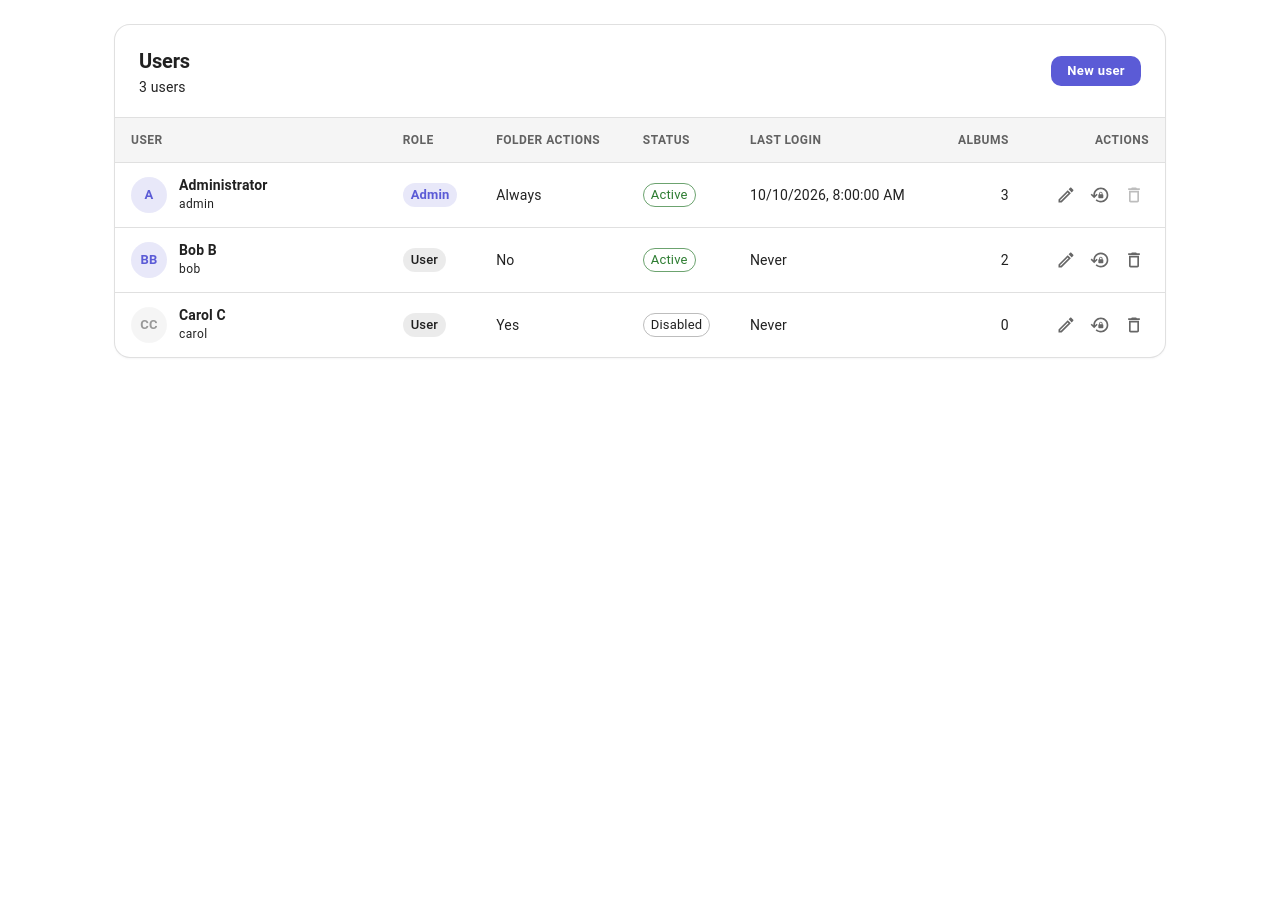
Test case: UsersPage › creates a user and shows them in the table
Click the button "New user" at (1096, 71), box [1051, 56, 1141, 86]
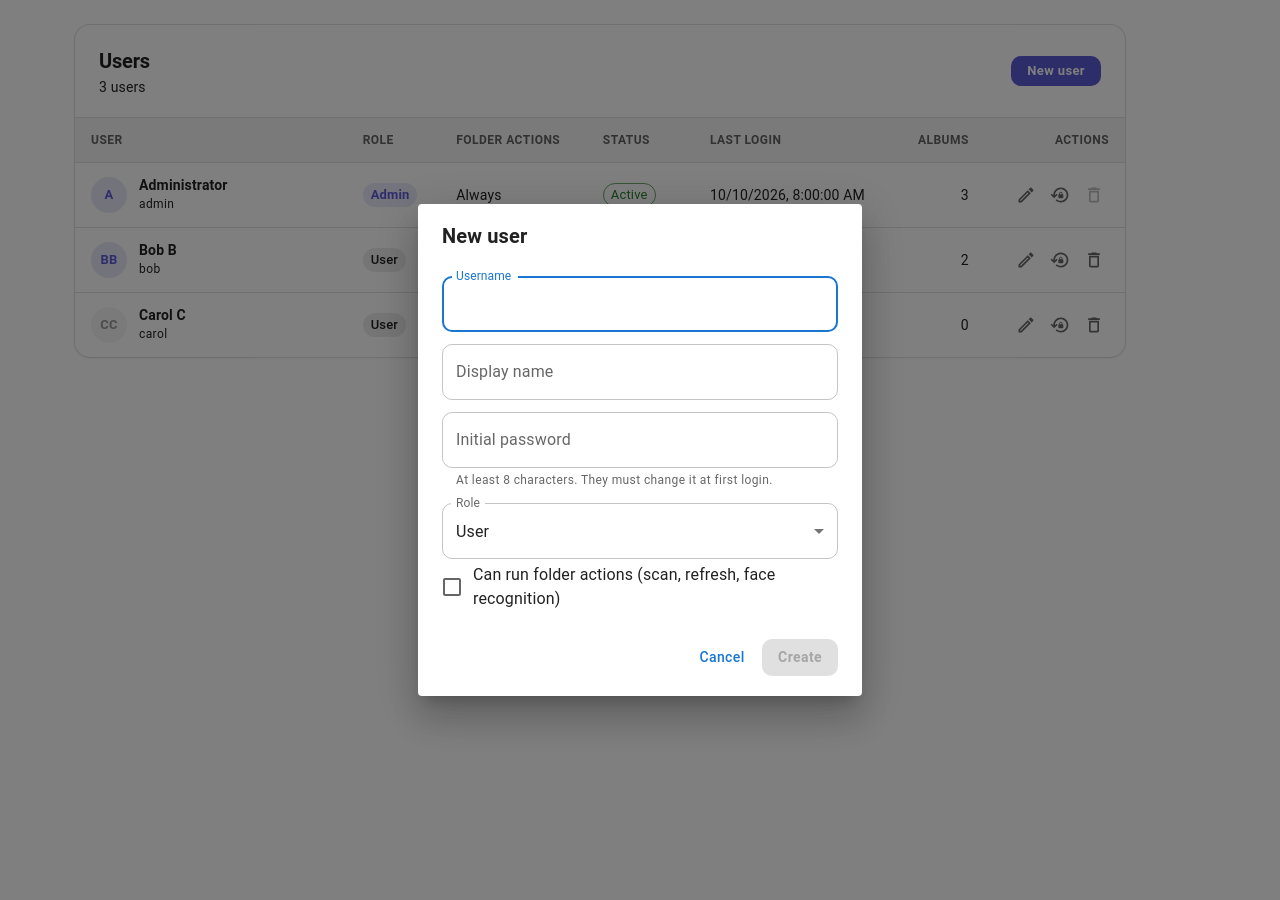
Type "dave" into the field labelled "Username" at (640, 304), box [442, 276, 838, 332]
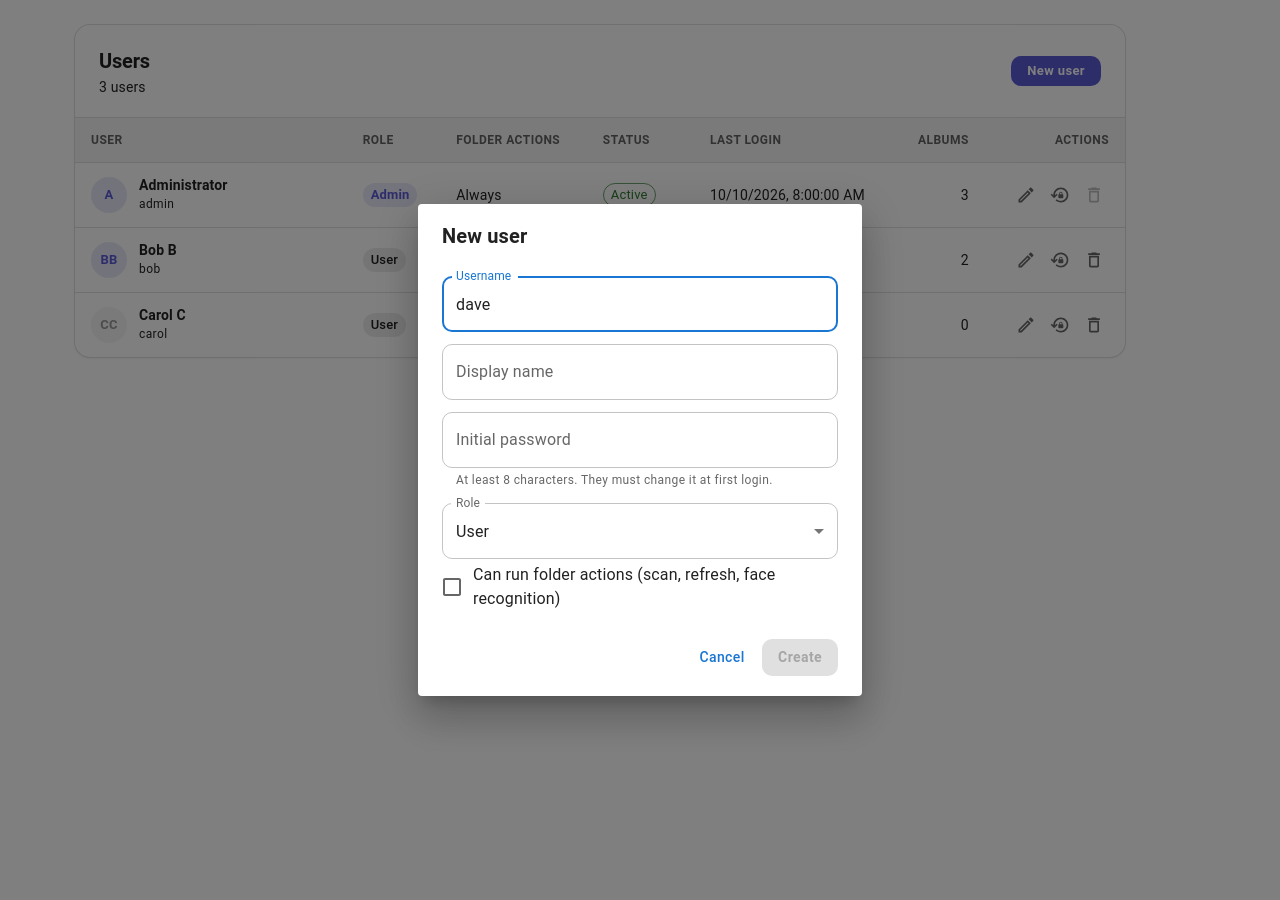
Type "Dave D" into the field labelled "Display name" at (640, 372), box [442, 344, 838, 400]
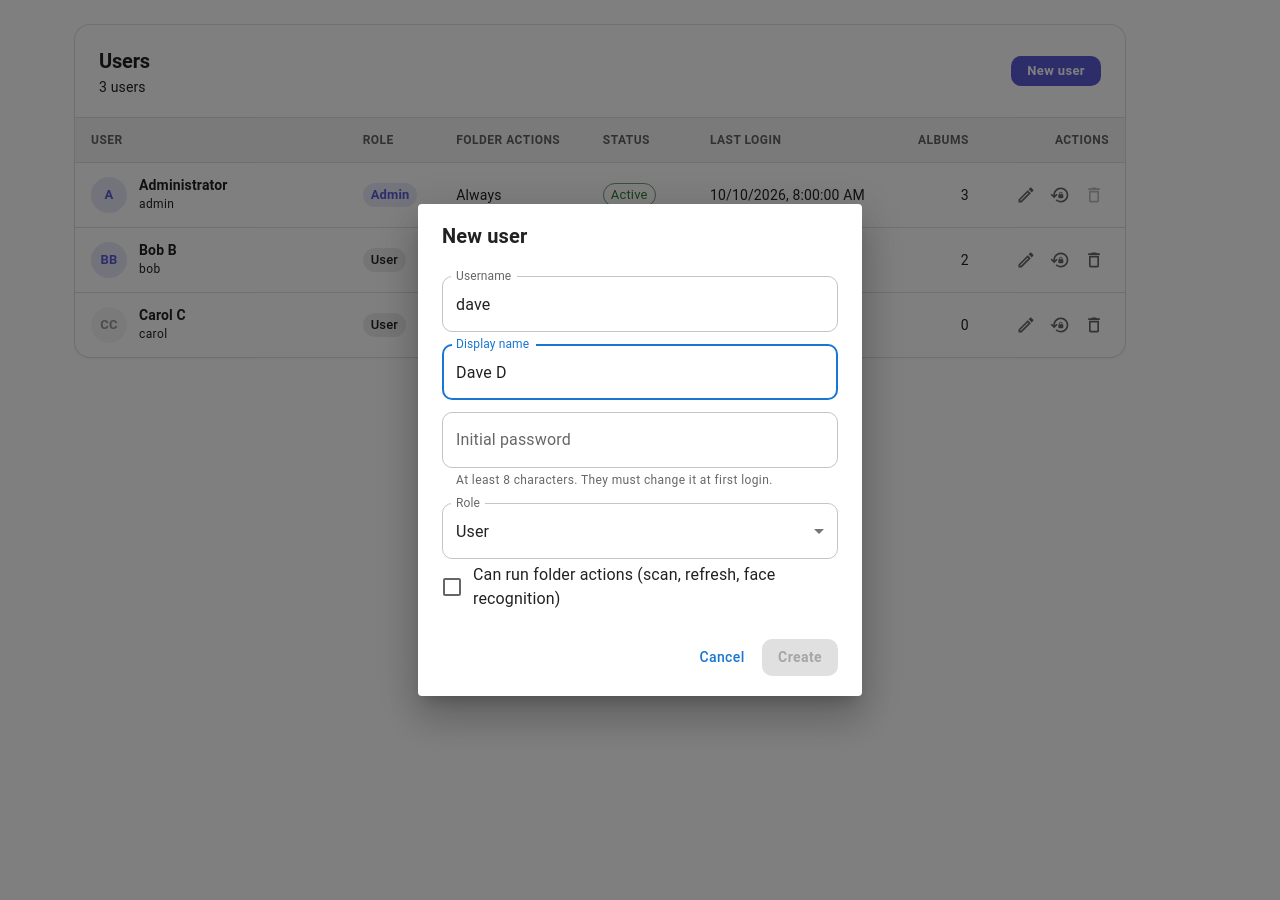
Type "long-enough-pw" into the password field labelled "Initial password" at (640, 440), box [442, 412, 838, 468]
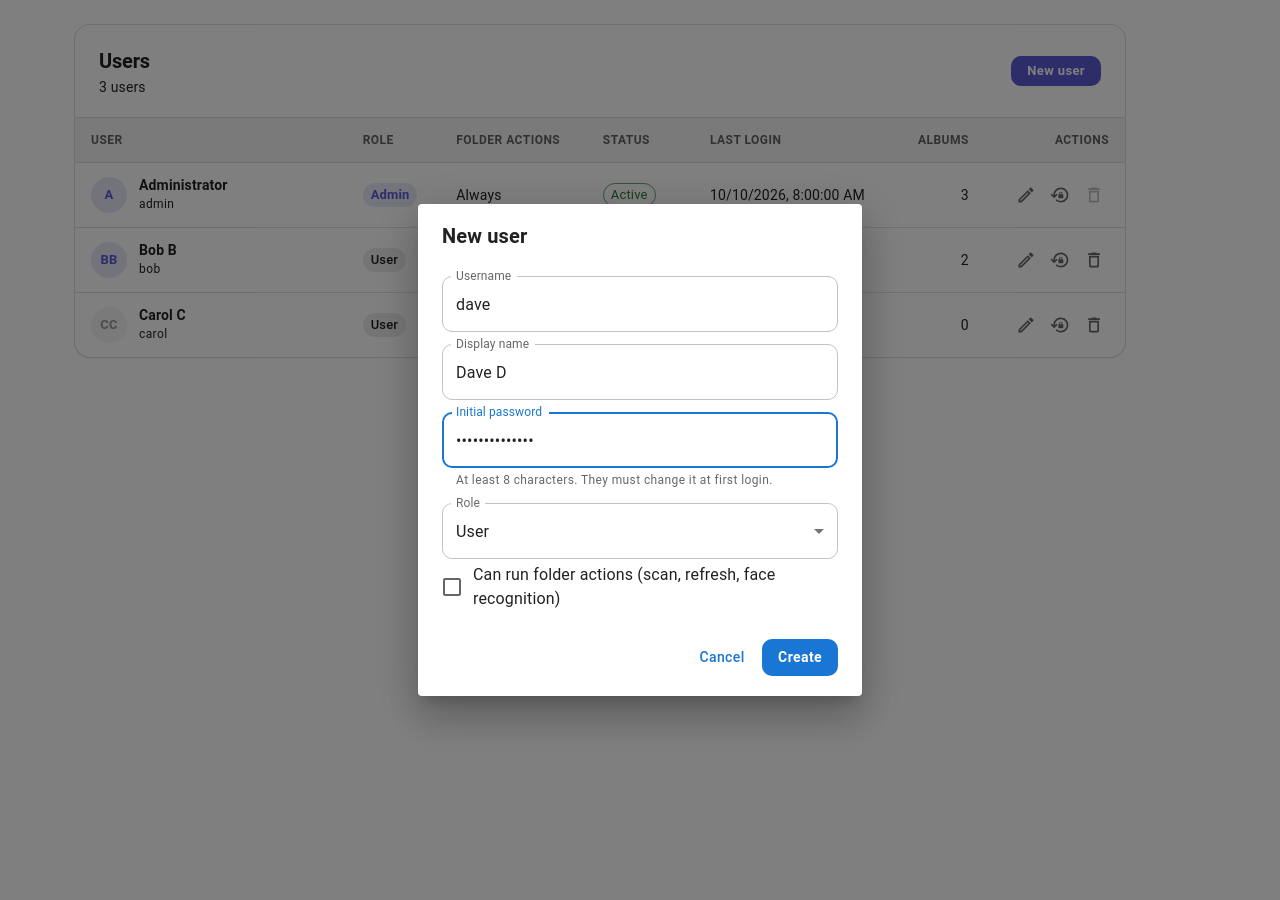
Click the button "Create" at (800, 657), box [762, 639, 838, 676]
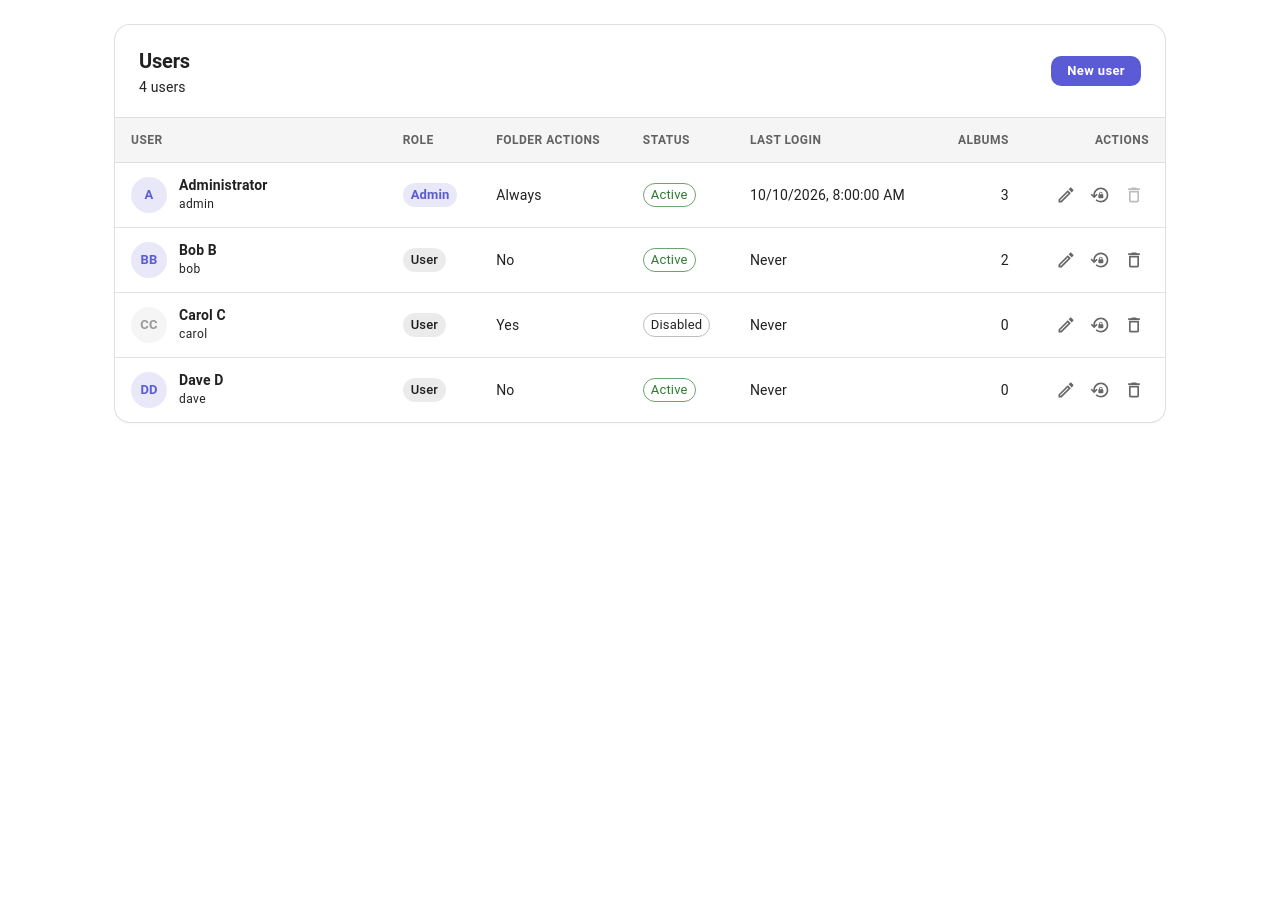
Now the text "dave" is shown, box [179, 392, 206, 406]
